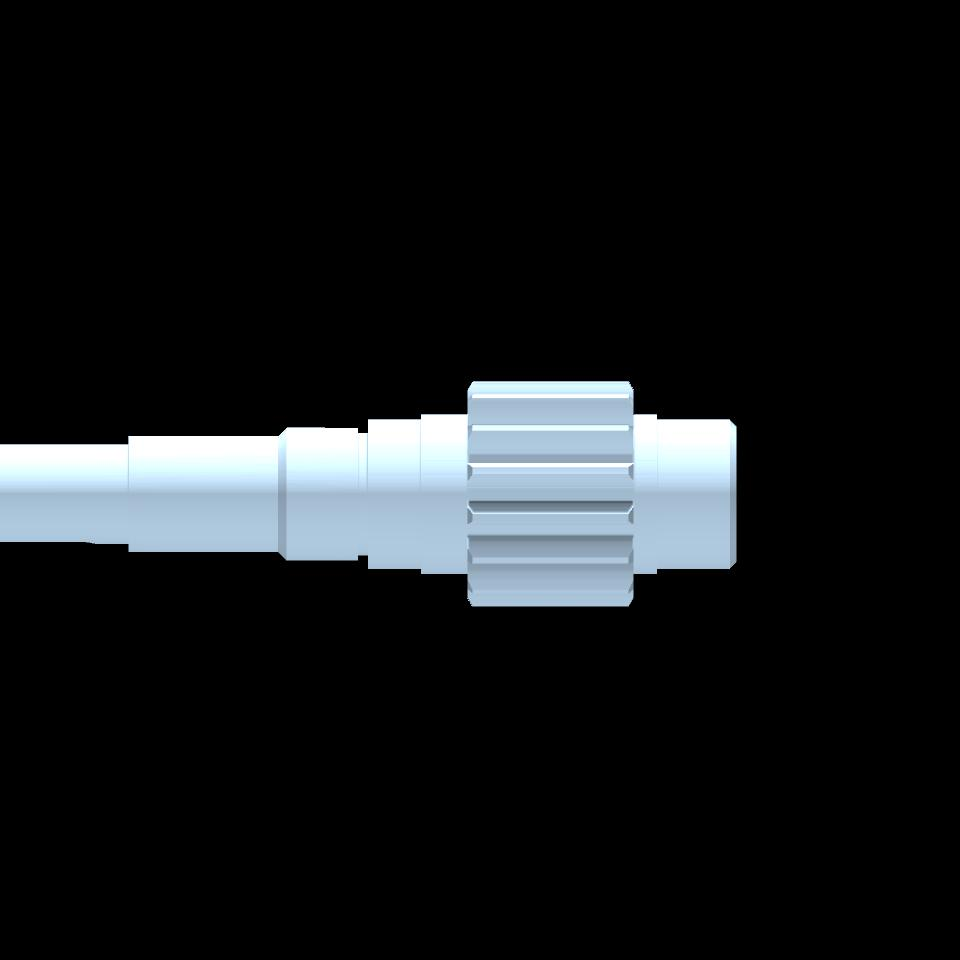Straight: (472, 380, 630, 607)
